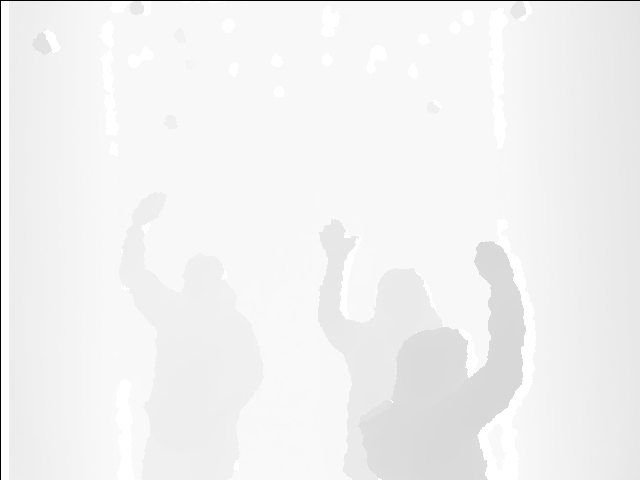hand: (471, 239, 515, 291), (315, 219, 358, 262), (133, 190, 168, 225)
